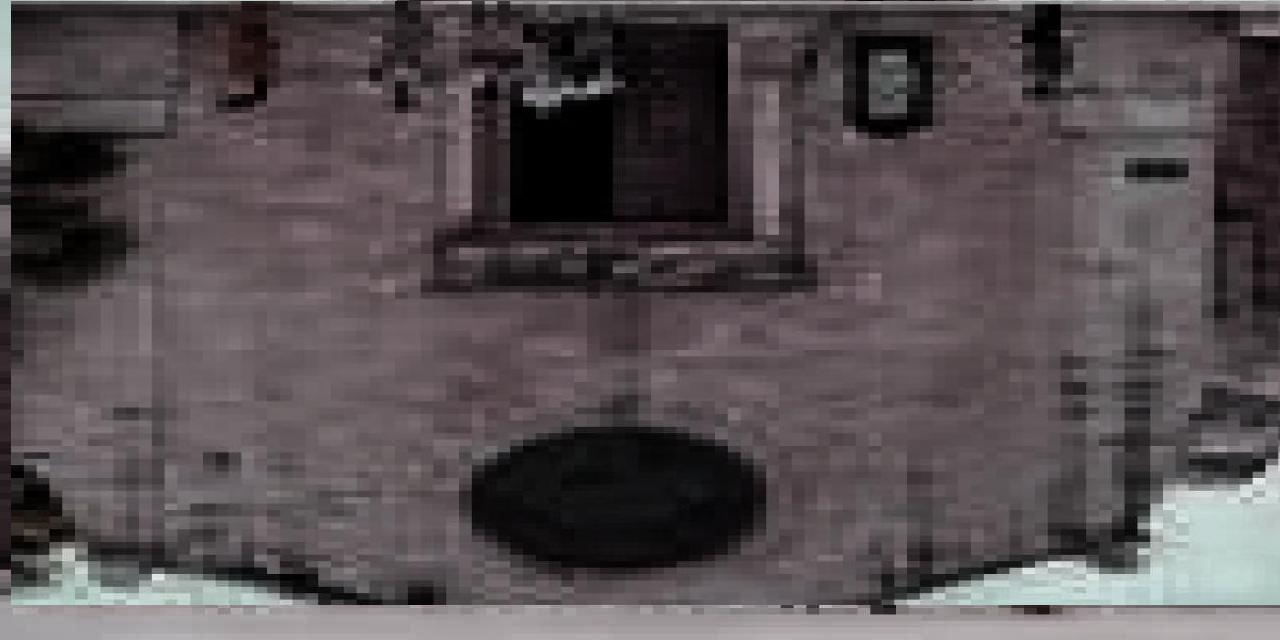Agia Aikaterini: (12, 2, 1280, 606)
